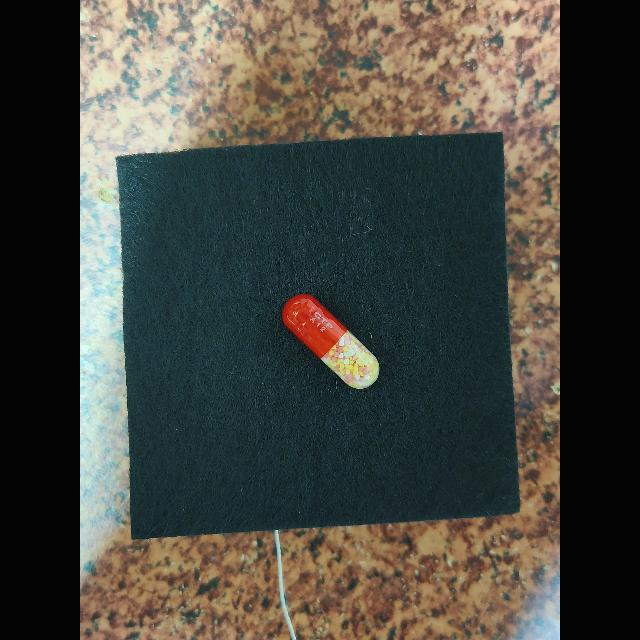Intact Capsule: (282, 294, 380, 389)
